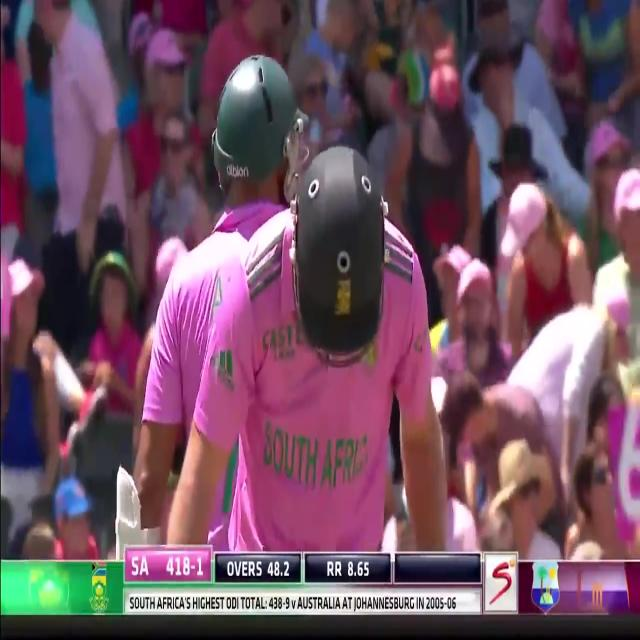Ball: (157, 61, 456, 554)
